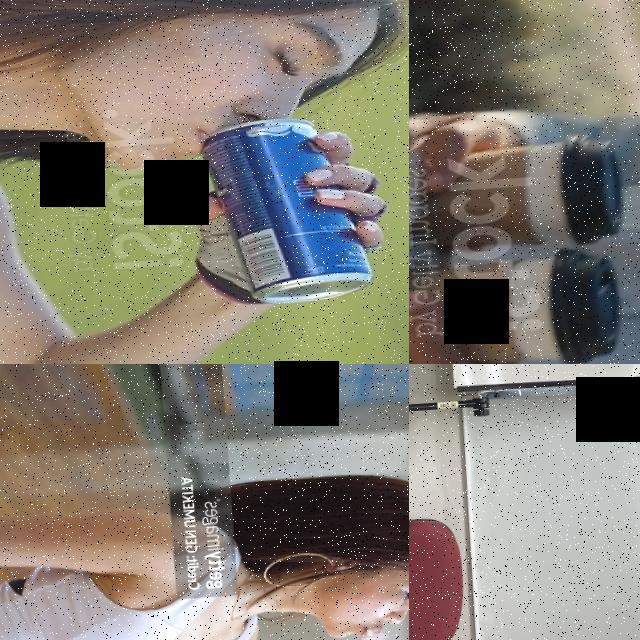can: (190, 112, 377, 310)
cup: (414, 128, 628, 258), (409, 243, 621, 364)
